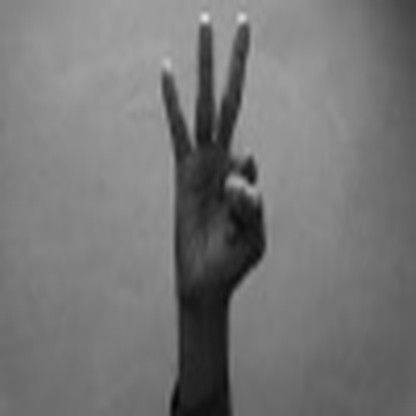f: (137, 4, 279, 284)
